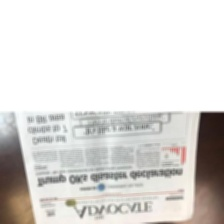news_paper: (13, 112, 201, 224)
